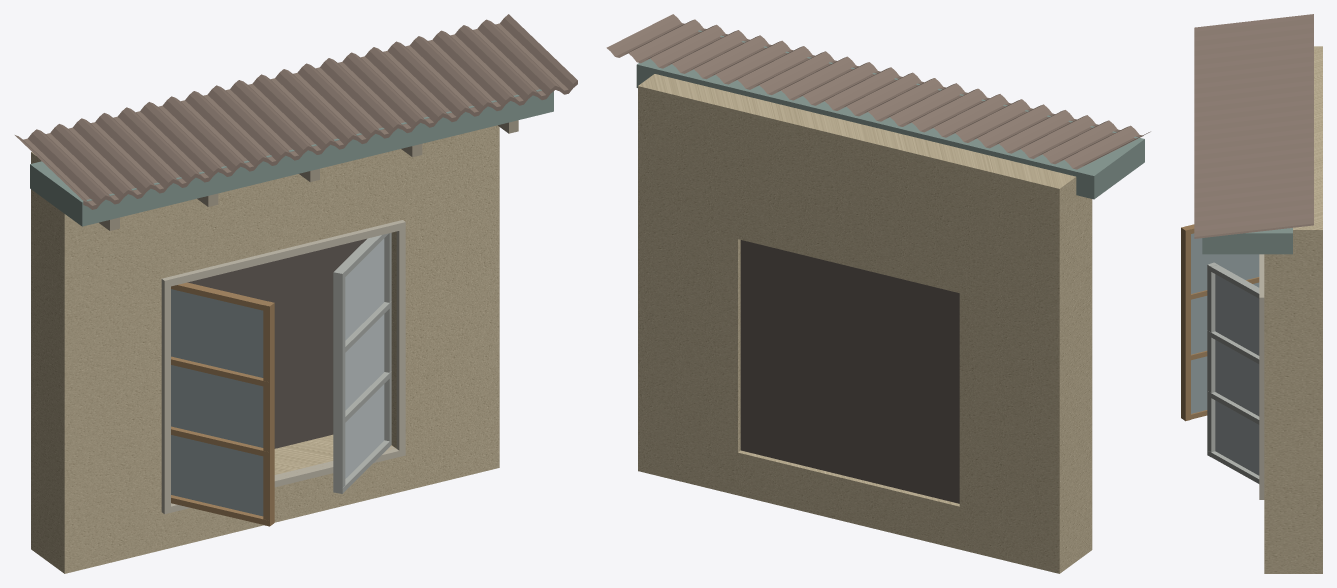
File: cooper-apartments-open-casements-far.glb
The picture shows the model from 3 angles, left to right: view 1: azimuth 30°, elevation 25°; view 2: azimuth 150°, elevation 25°; view 3: azimuth 270°, elevation 25°; orthographic projection. The views are drawn at different scales.
Parts seen in each view (by area): view 1: 古柏公寓中段上层外开窗与瓦檐; view 2: 古柏公寓中段上层外开窗与瓦檐; view 3: 古柏公寓中段上层外开窗与瓦檐.
Boxes of the visible parts, left/top/right/bottom form: 古柏公寓中段上层外开窗与瓦檐: left=15, top=14, right=577, bottom=573; 古柏公寓中段上层外开窗与瓦檐: left=606, top=14, right=1150, bottom=573; 古柏公寓中段上层外开窗与瓦檐: left=1181, top=14, right=1322, bottom=573.
Bounding box in the file's own units: 3.39 × 2.77 × 0.9711.
10 materials, 1 textured.
